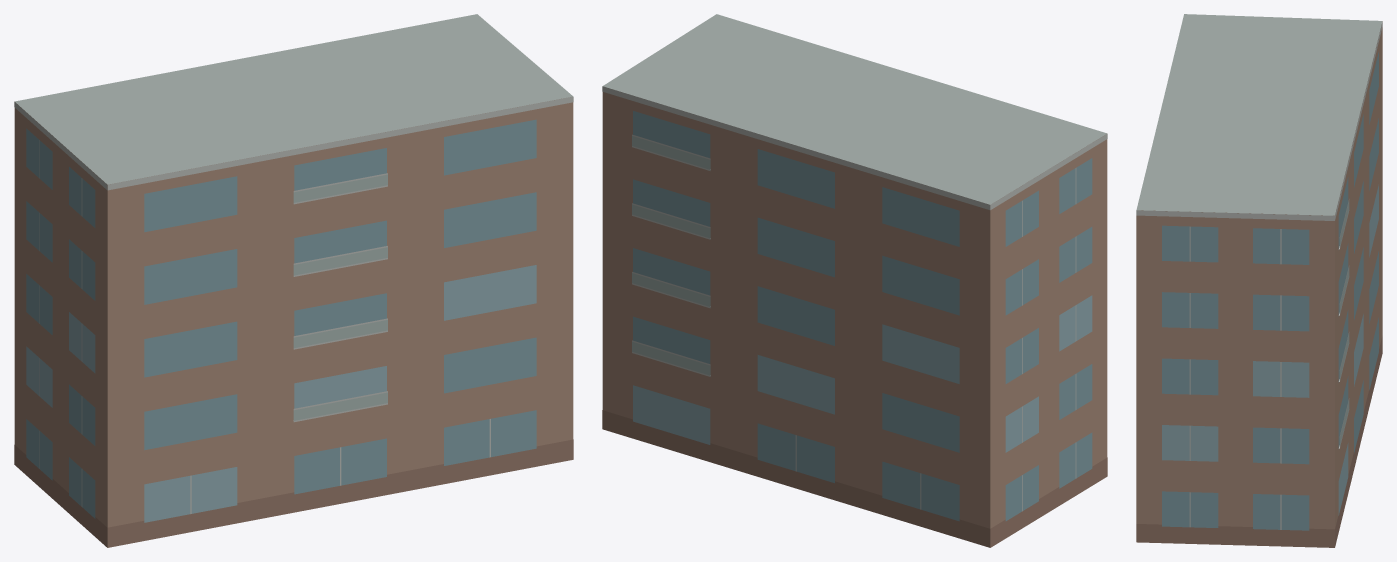
Rendered from survey-upis-32676702.glb.
3 renders of one model, left to right at view 1: azimuth 30°, elevation 25°; view 2: azimuth 150°, elevation 25°; view 3: azimuth 270°, elevation 25°, orthographic. The views are drawn at different scales.
Visible parts, largest first — view 1: survey-upis-32676702.tmp; view 2: survey-upis-32676702.tmp; view 3: survey-upis-32676702.tmp.
Boxes of the visible parts, x1,y1,x2,y2 form: survey-upis-32676702.tmp: (14, 14, 573, 547); survey-upis-32676702.tmp: (602, 14, 1107, 547); survey-upis-32676702.tmp: (1136, 14, 1382, 547).
Size of the model in its own units: 19.88 by 15.25 by 10.26.
